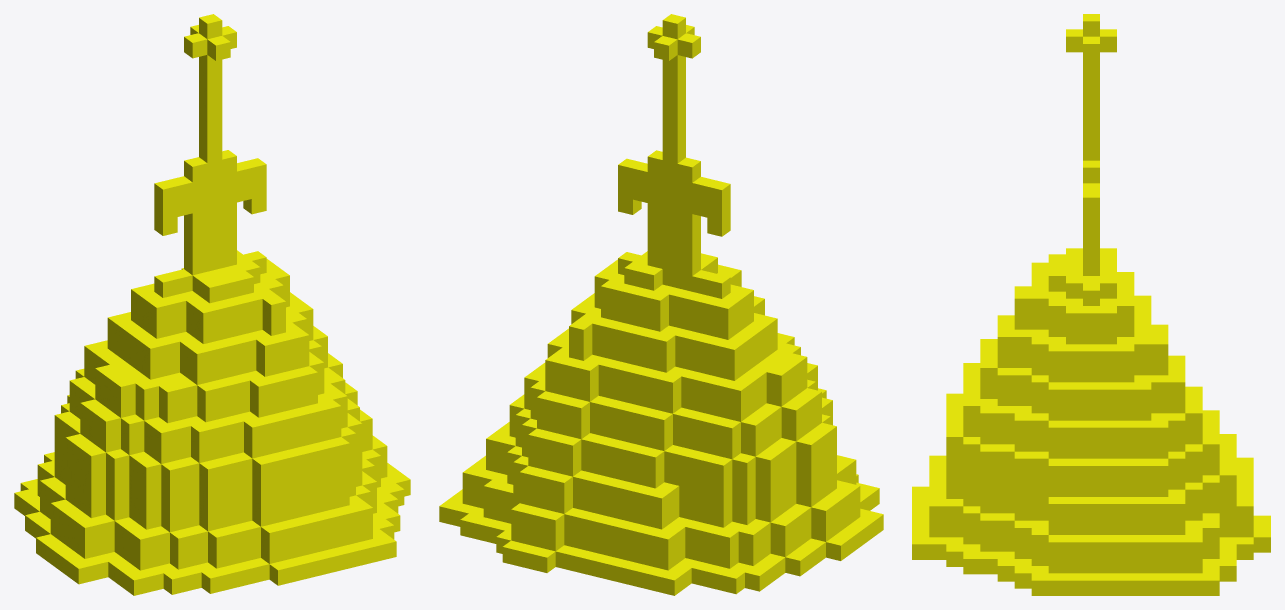
File: voxel-wizards-sword-in-stone.glb
3 renders of one model, left to right at view 1: azimuth 30°, elevation 25°; view 2: azimuth 150°, elevation 25°; view 3: azimuth 270°, elevation 25°, orthographic.
Visible parts, largest first — view 1: VS_Wizards_SwordStone; view 2: VS_Wizards_SwordStone; view 3: VS_Wizards_SwordStone.
Boxes of the visible parts, x1,y1,x2,y2 form: VS_Wizards_SwordStone: (14, 14, 410, 595); VS_Wizards_SwordStone: (439, 14, 883, 595); VS_Wizards_SwordStone: (912, 14, 1270, 595).
Bounding box in the file's own units: 2.3 × 3.2 × 2.1.
